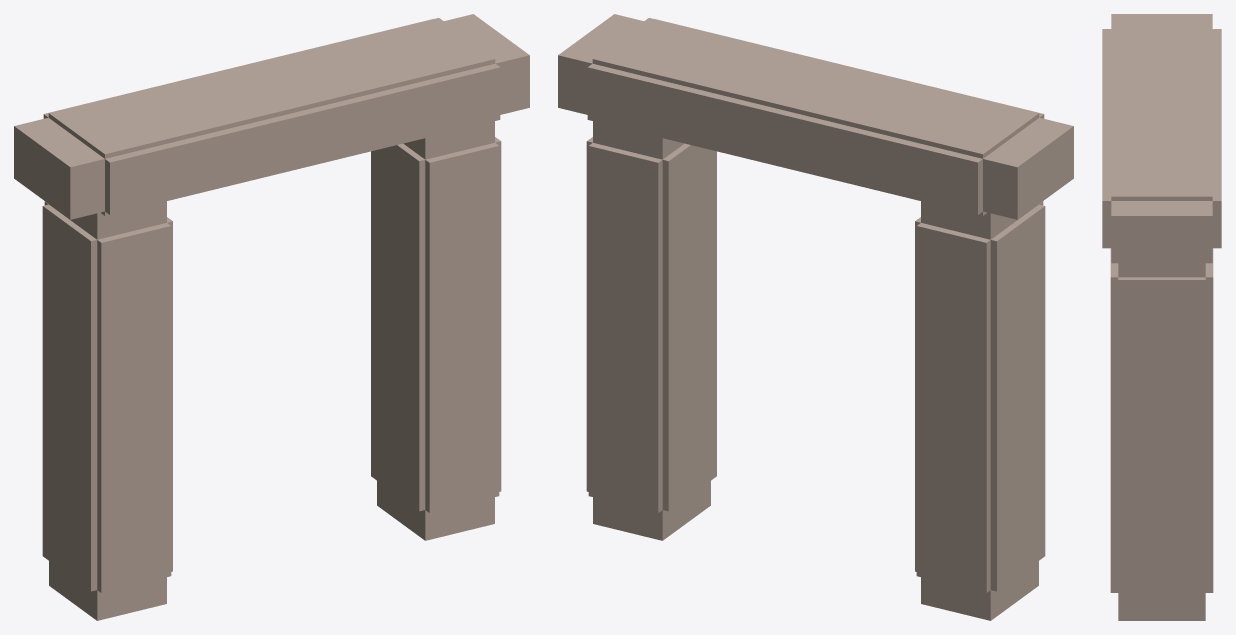
Rendered from env_desert_rock_arch.glb.
3 views of the same model, side by side, from view 1: azimuth 30°, elevation 25°; view 2: azimuth 150°, elevation 25°; view 3: azimuth 270°, elevation 25° (orthographic). The views are drawn at different scales.
Visible parts, largest first — view 1: box; view 2: box; view 3: box.
Boxes of the visible parts, left/top/right/bottom form: box: left=14, top=14, right=529, bottom=620; box: left=558, top=14, right=1073, bottom=620; box: left=1102, top=14, right=1221, bottom=620.
Bounding box in the file's own units: 2.8 × 2.73 × 0.7.
